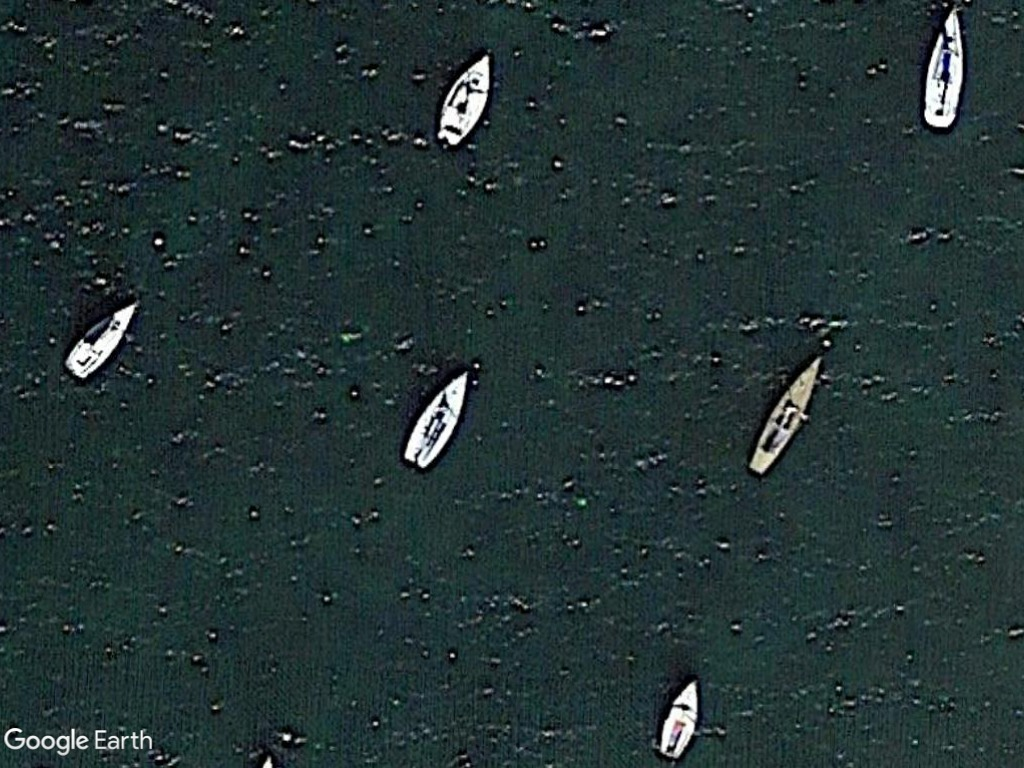boat: (742, 351, 826, 476), (399, 363, 471, 476), (62, 297, 142, 383), (432, 48, 493, 148), (918, 3, 963, 132), (654, 672, 703, 761)
